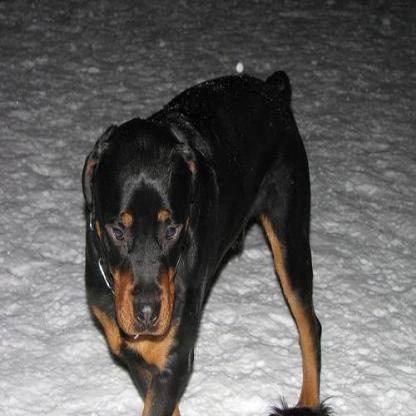Rottweiler: (81, 70, 322, 414)
